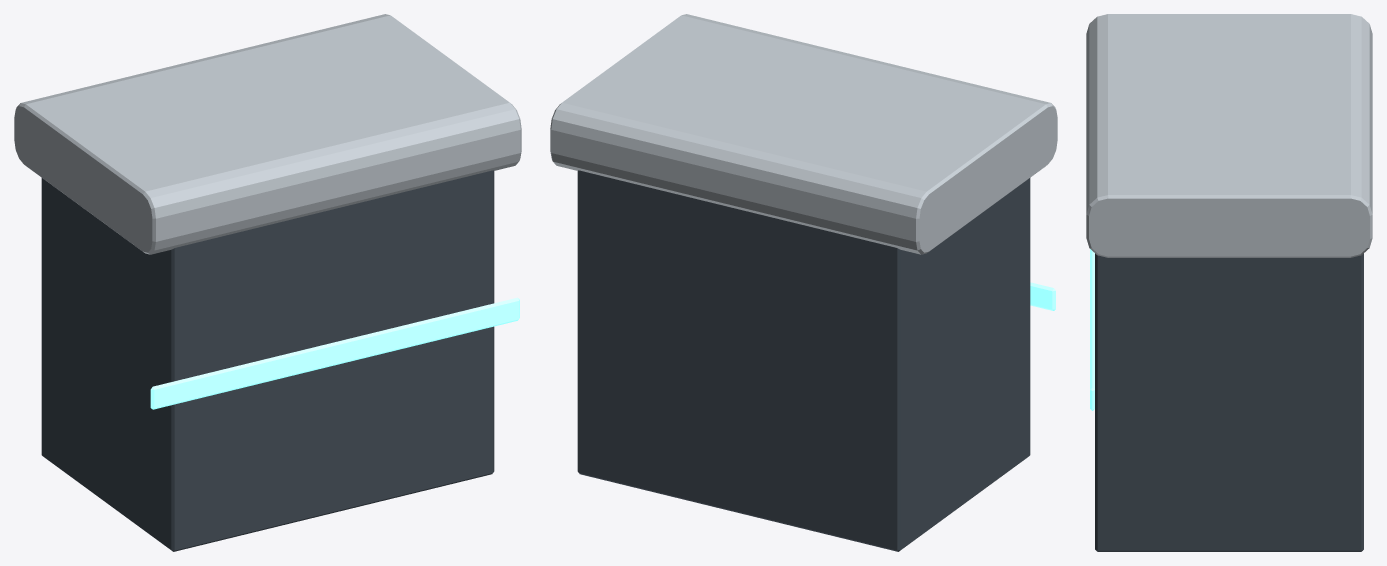
File: Bridge_Deck.gltf
The picture shows the model from 3 angles, left to right: view 1: azimuth 30°, elevation 25°; view 2: azimuth 150°, elevation 25°; view 3: azimuth 270°, elevation 25°; orthographic projection.
Parts seen in each view (by area): view 1: Bridge_Deck_baked; view 2: Bridge_Deck_baked; view 3: Bridge_Deck_baked.
Boxes of the visible parts, x1,y1,x2,y2 form: Bridge_Deck_baked: (14, 14, 521, 551); Bridge_Deck_baked: (550, 14, 1057, 551); Bridge_Deck_baked: (1086, 14, 1372, 551).
Size of the model in its own units: 1 by 0.9375 by 0.66.
